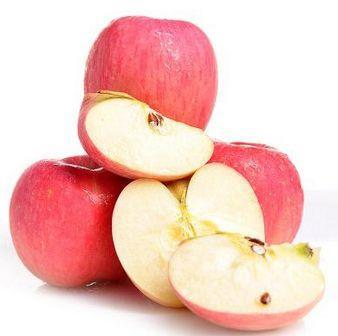apple: (7, 154, 134, 288), (83, 13, 218, 131), (186, 142, 305, 248)
